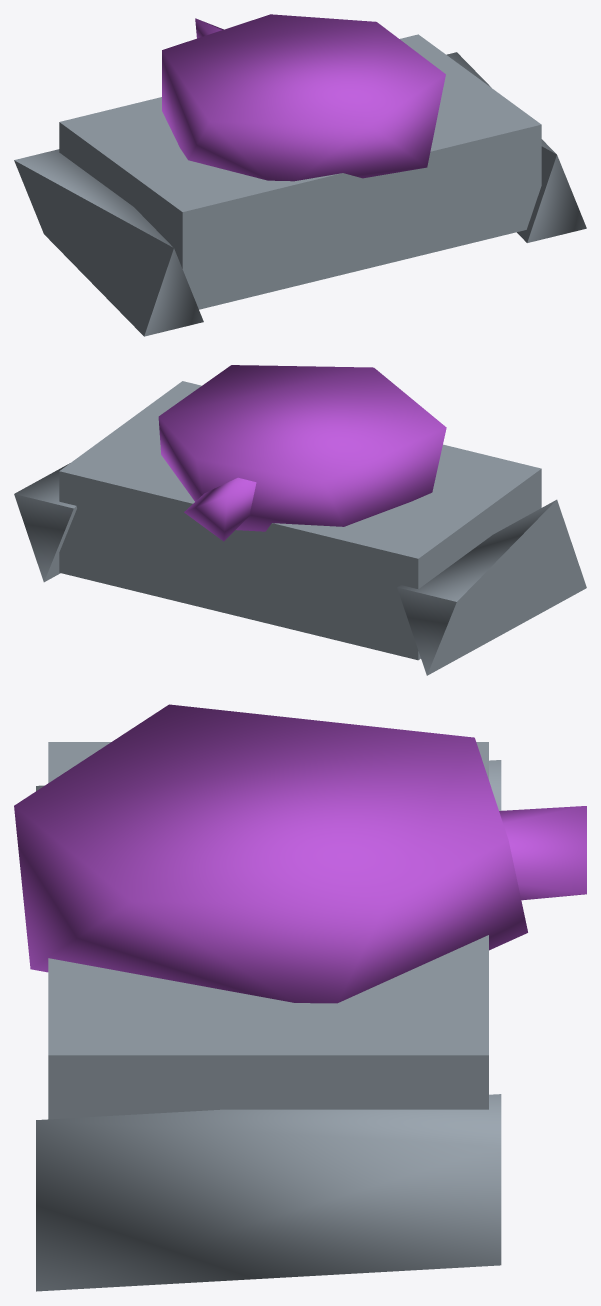
File: CH_ParallaxScout_LOD2.glb
3 renders of one model, top to bottom at view 1: azimuth 30°, elevation 25°; view 2: azimuth 150°, elevation 25°; view 3: azimuth 270°, elevation 25°, orthographic. The views are drawn at different scales.
Visible parts, largest first — view 1: Chassis; view 2: Chassis; view 3: Chassis.
Part boxes in pixels (<box>): Chassis: <box>14,14,586,336</box>; Chassis: <box>14,365,586,675</box>; Chassis: <box>14,704,586,1291</box>.
Bounding box in the file's own units: 411 × 144 × 257.
